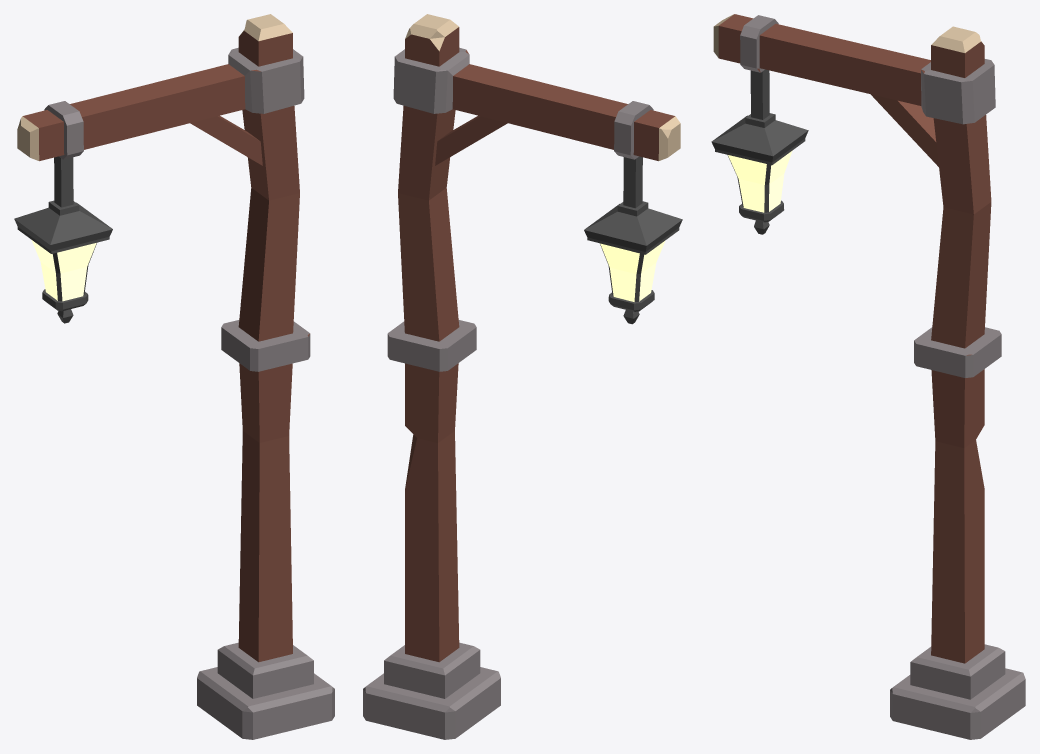
The model's file is Farola.fbx.
3 views of the same model, side by side, from view 1: azimuth 30°, elevation 25°; view 2: azimuth 150°, elevation 25°; view 3: azimuth 330°, elevation 25° (orthographic).
Visible parts, largest first — view 1: Cube.022; view 2: Cube.022; view 3: Cube.022.
Boxes of the visible parts, x1,y1,x2,y2 form: Cube.022: (14,14,334,739); Cube.022: (363,14,682,739); Cube.022: (711,14,1025,739).
Size of the model in its own units: 1401 by 3198 by 449.
